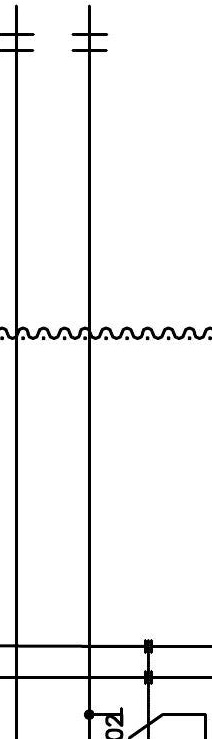115_buffer: (71, 33, 108, 52)
